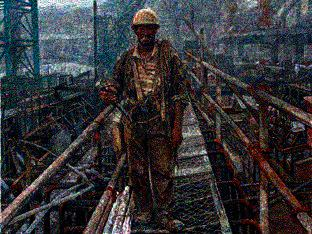helmet: (131, 7, 161, 45)
